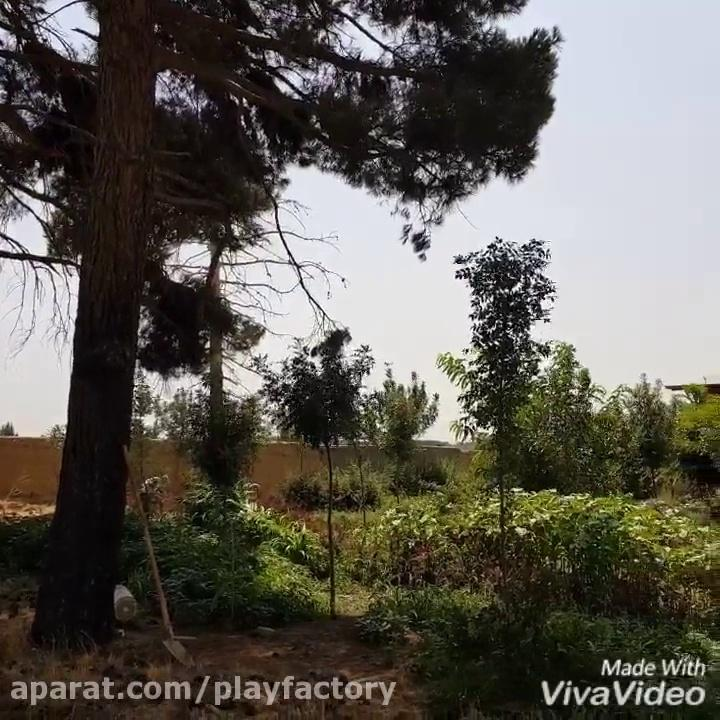drone: (382, 357, 396, 367)
